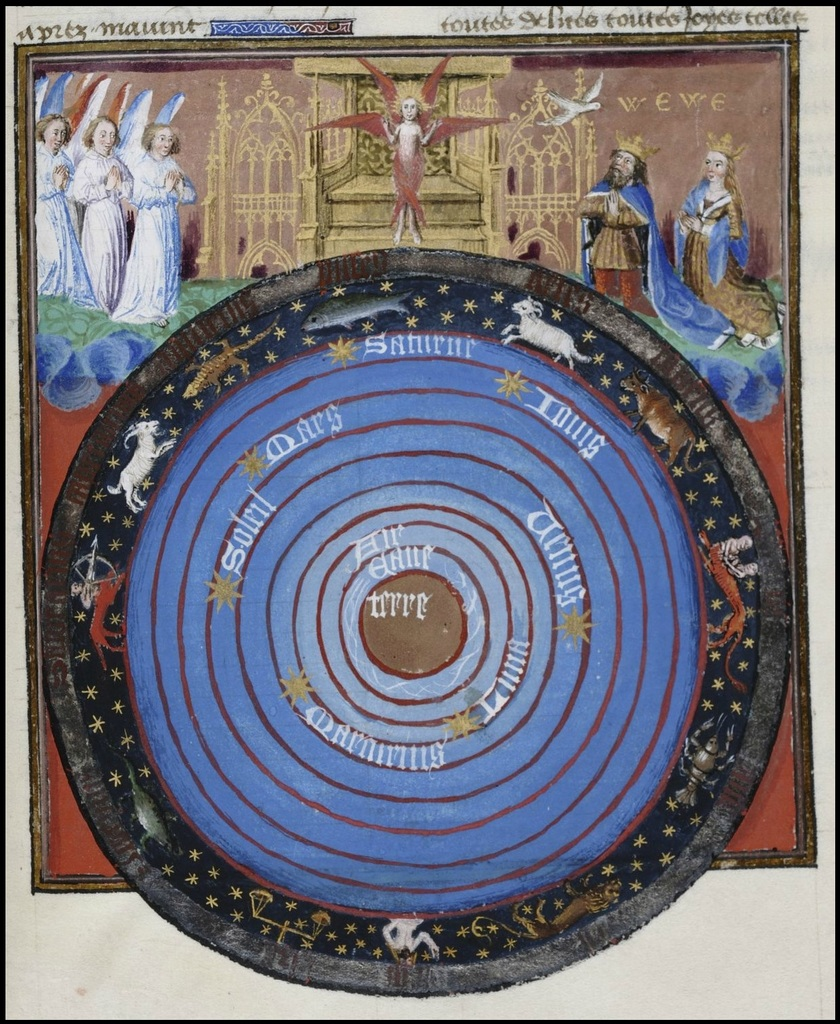person: (674, 143, 770, 319)
